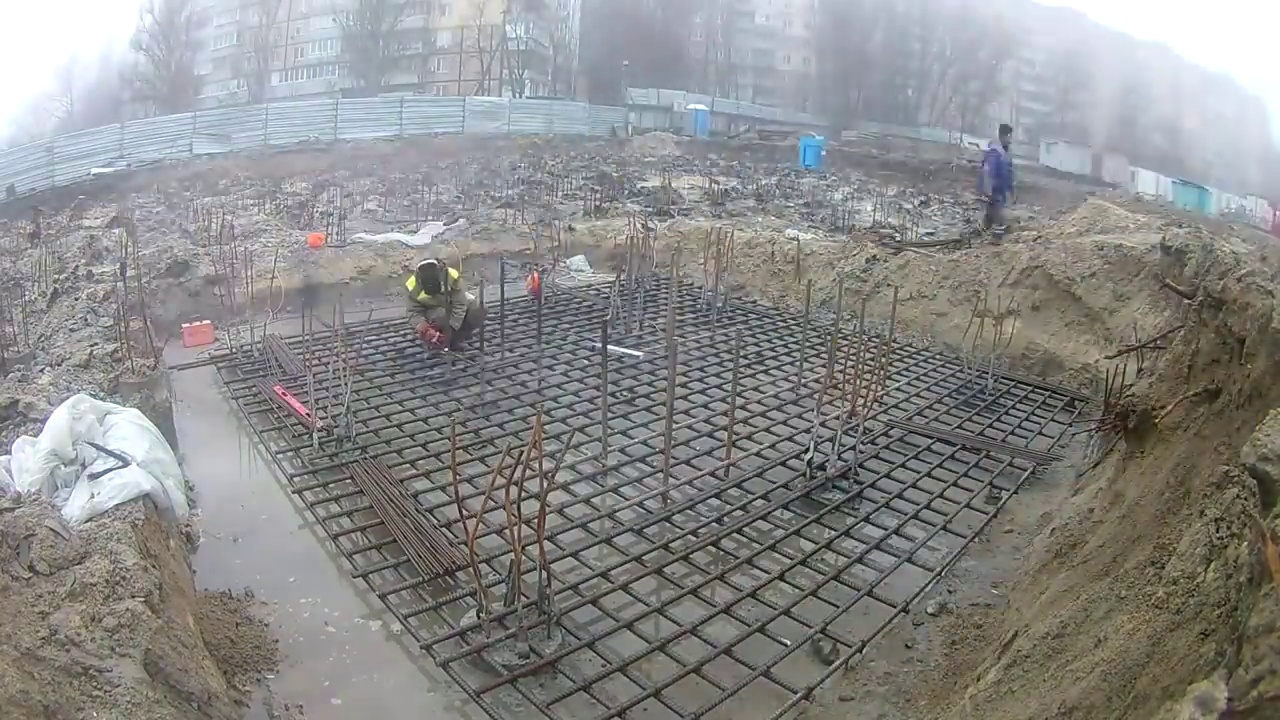helmet: (525, 269, 541, 302), (305, 233, 325, 249)
helmet-off: (410, 259, 447, 303)
person: (400, 256, 486, 360), (978, 122, 1022, 227)
